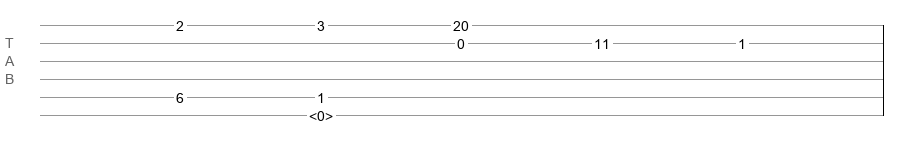0: (457, 36, 465, 46)
1: (317, 90, 325, 100), (738, 36, 746, 46)
11: (594, 36, 610, 46)
2: (176, 18, 184, 28)
20: (453, 18, 469, 28)
3: (317, 18, 325, 28)
6: (176, 90, 184, 100)
harmonic: (309, 108, 333, 118)
